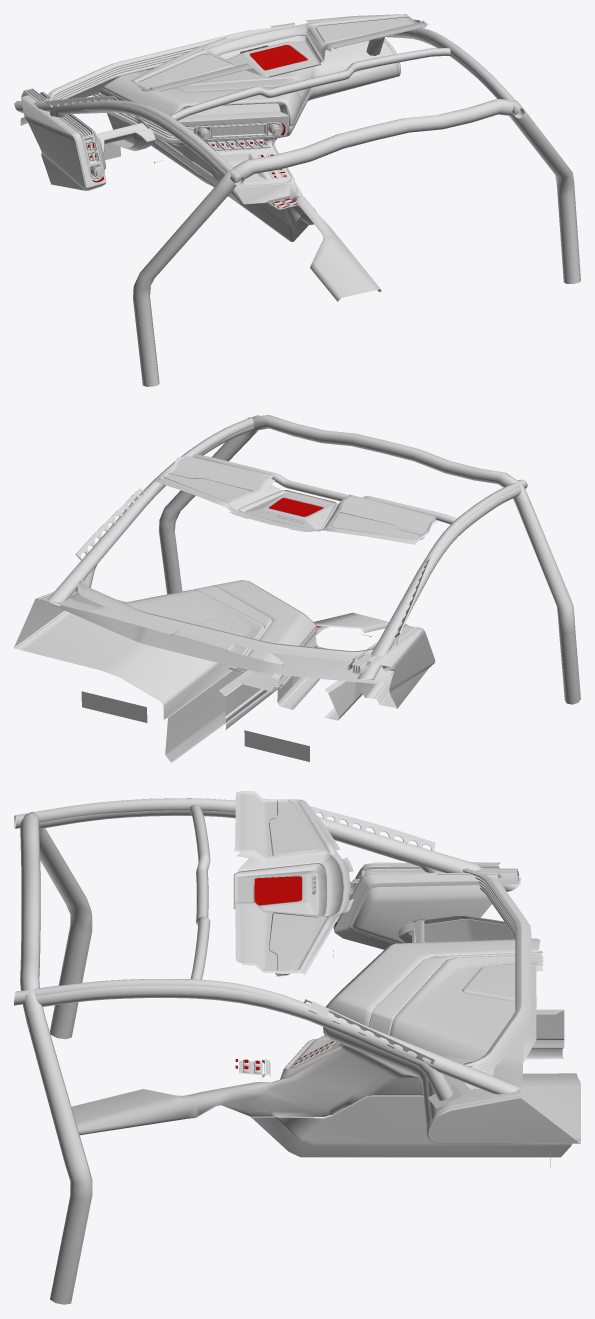
The model's file is bkp__v_sport3_quadra_turbo_genii__int01_interior_02_type66.glb.
3 renders of one model, top to bottom at view 1: azimuth 30°, elevation 25°; view 2: azimuth 150°, elevation 25°; view 3: azimuth 270°, elevation 25°, orthographic. The views are drawn at different scales.
Parts seen in each view (by area): view 1: submesh_00_LOD_1, submesh_01_LOD_1, submesh_02_LOD_1, submesh_07_LOD_1, submesh_09_LOD_1; view 2: submesh_00_LOD_1, submesh_01_LOD_1, submesh_02_LOD_1, submesh_09_LOD_1; view 3: submesh_00_LOD_1, submesh_01_LOD_1, submesh_02_LOD_1, submesh_09_LOD_1.
Part boxes in pixels (bbox=[...]): submesh_00_LOD_1: bbox=[20, 14, 428, 301]; submesh_01_LOD_1: bbox=[14, 19, 580, 386]; submesh_02_LOD_1: bbox=[77, 17, 418, 209]; submesh_07_LOD_1: bbox=[186, 103, 280, 135]; submesh_09_LOD_1: bbox=[250, 44, 307, 70]; submesh_00_LOD_1: bbox=[14, 456, 437, 762]; submesh_01_LOD_1: bbox=[47, 415, 580, 704]; submesh_02_LOD_1: bbox=[75, 476, 424, 761]; submesh_09_LOD_1: bbox=[269, 498, 323, 516]; submesh_00_LOD_1: bbox=[71, 791, 580, 1157]; submesh_01_LOD_1: bbox=[14, 798, 521, 1304]; submesh_02_LOD_1: bbox=[239, 800, 550, 1167]; submesh_09_LOD_1: bbox=[254, 876, 301, 905].
Size of the model in its own units: 2 by 0.991 by 1.73.
